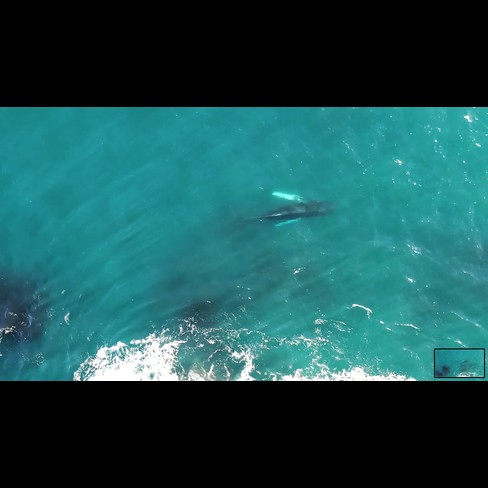hump: (234, 185, 348, 236)
